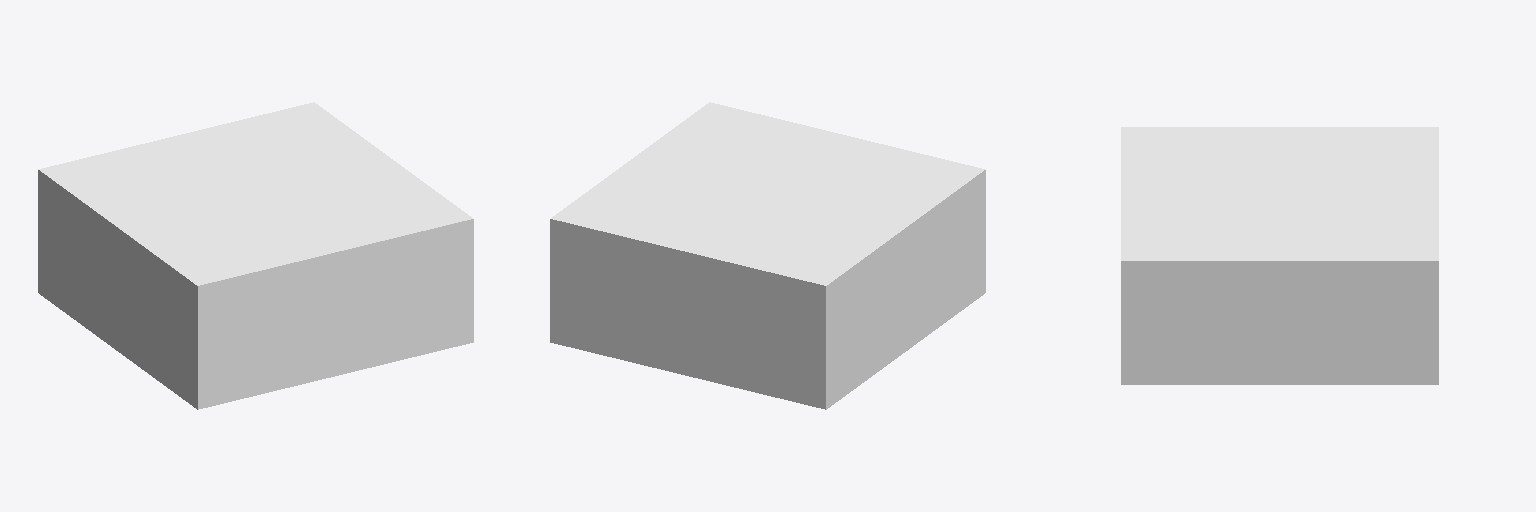
Rendered from breaker.obj.
3 renders of one model, left to right at view 1: azimuth 30°, elevation 25°; view 2: azimuth 150°, elevation 25°; view 3: azimuth 270°, elevation 25°, orthographic.
Visible parts, largest first — view 1: object 1; view 2: object 1; view 3: object 1.
Part boxes in pixels (left/top/right/bottom): object 1: left=38, top=102, right=473, bottom=409; object 1: left=550, top=102, right=985, bottom=409; object 1: left=1121, top=127, right=1438, bottom=384.
Bounding box in the file's own units: 0.7 × 0.3 × 0.7.